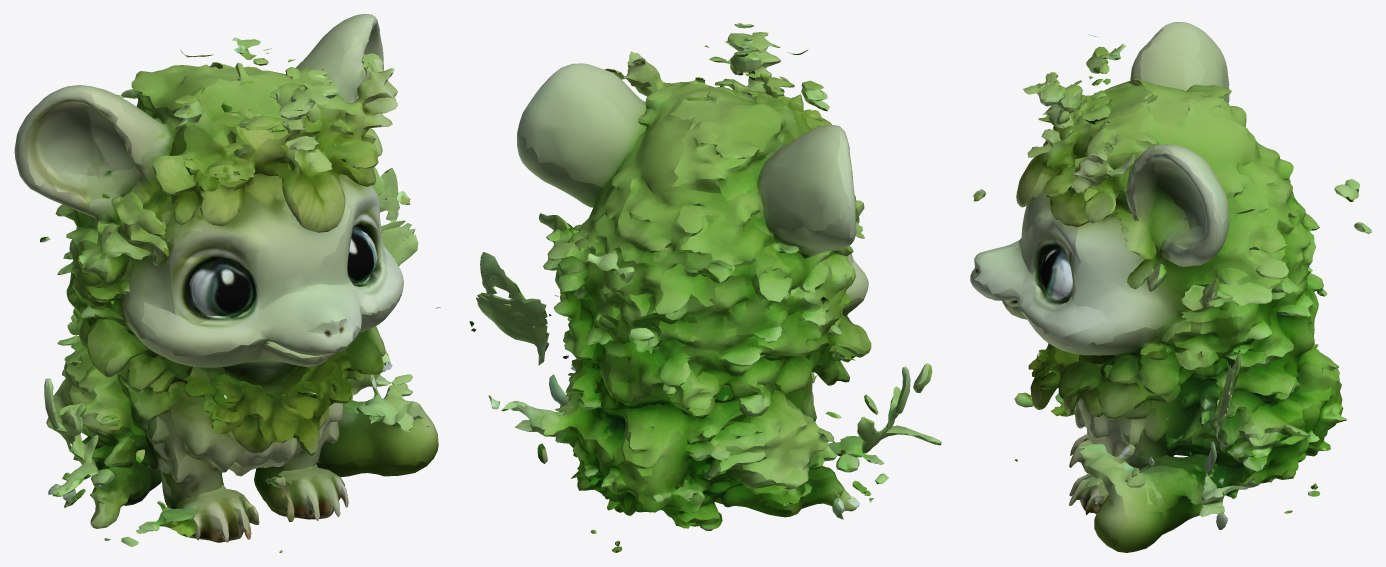
The model's file is mossling.glb.
3 views of the same model, side by side, from view 1: azimuth 30°, elevation 25°; view 2: azimuth 150°, elevation 25°; view 3: azimuth 270°, elevation 25° (orthographic). The views are drawn at different scales.
Visible parts, largest first — view 1: tmpyrkei4kd.ply; view 2: tmpyrkei4kd.ply; view 3: tmpyrkei4kd.ply.
Boxes of the visible parts, x1=… form: tmpyrkei4kd.ply: x1=14, y1=14, x2=440, y2=552; tmpyrkei4kd.ply: x1=469, y1=23, x2=941, y2=552; tmpyrkei4kd.ply: x1=970, y1=22, x2=1371, y2=552.
Size of the model in its own units: 1.86 by 1.98 by 1.64.
Materials: 1 (1 with a texture image).
